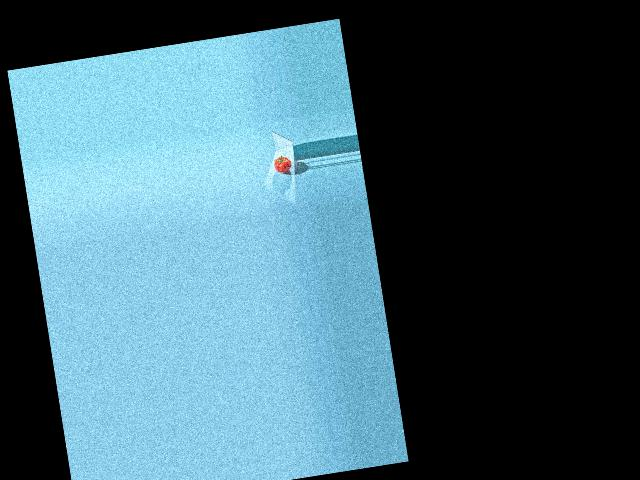tomato: (273, 155, 292, 173)
